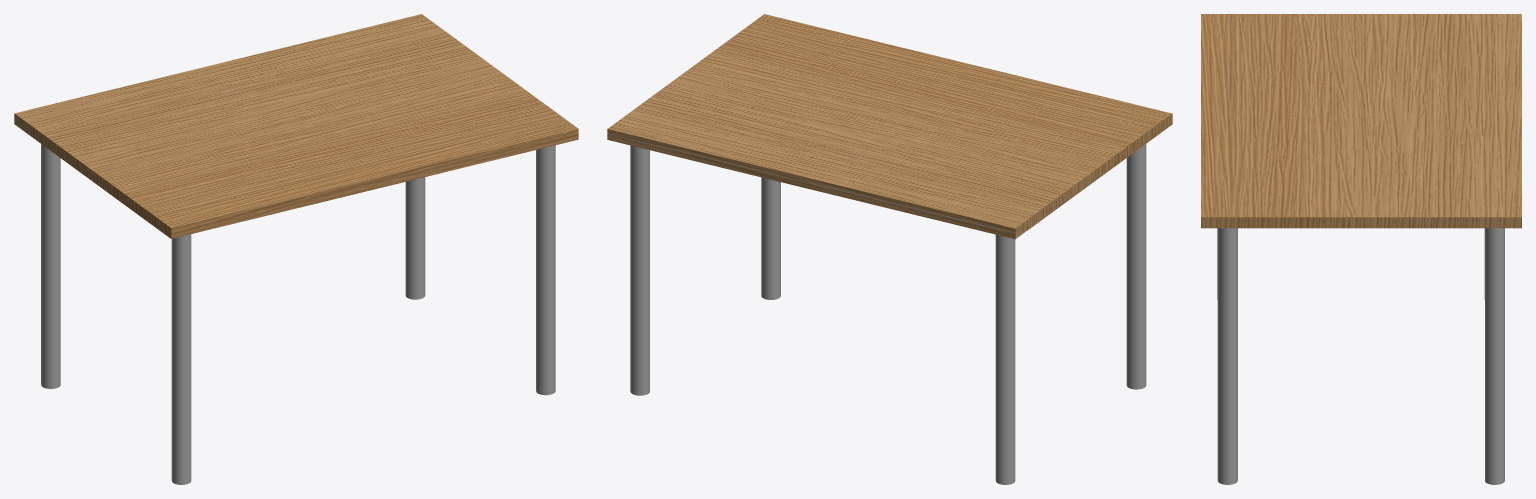
The model's file is Table.fbx.
3 renders of one model, left to right at view 1: azimuth 30°, elevation 25°; view 2: azimuth 150°, elevation 25°; view 3: azimuth 270°, elevation 25°, orthographic. The views are drawn at different scales.
Parts seen in each view (by area): view 1: Plateau, Pieds; view 2: Plateau, Pieds; view 3: Plateau, Pieds.
Boxes of the visible parts, x1,y1,x2,y2 form: Plateau: (14,14,578,238); Pieds: (41,144,555,484); Plateau: (607,14,1172,239); Pieds: (630,144,1146,484); Plateau: (1201,14,1521,228); Pieds: (1217,228,1504,484).
Size of the model in its own units: 120 by 75.34 by 80.
